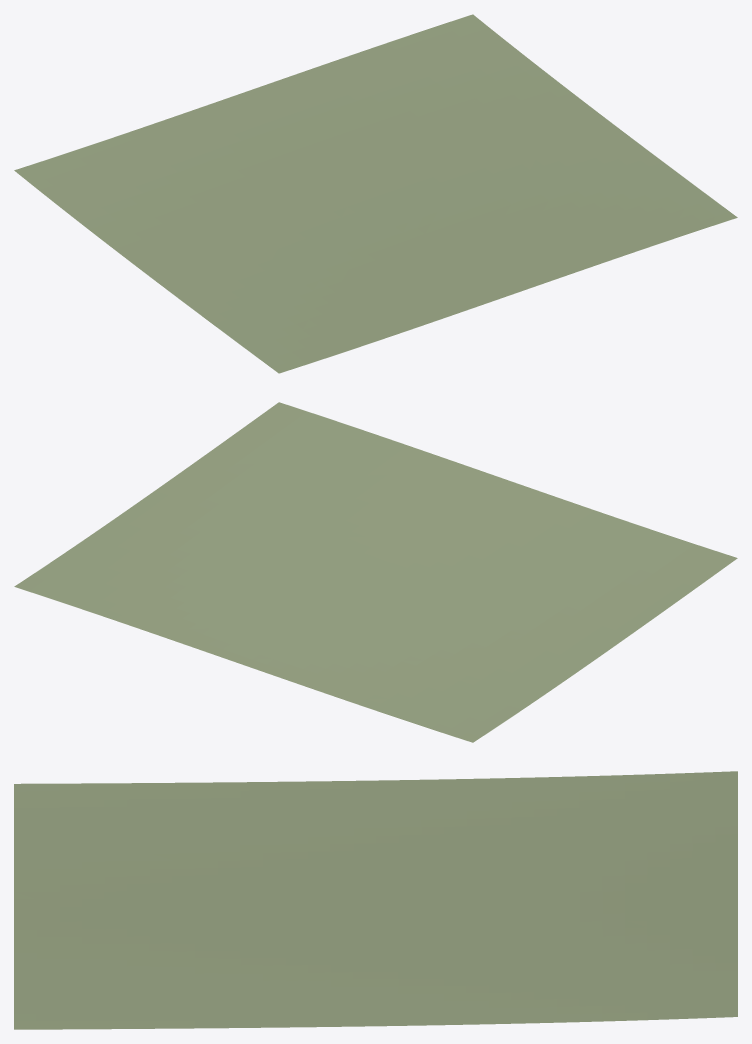
File: valley-5-4.glb
The picture shows the model from 3 angles, top to bottom: view 1: azimuth 30°, elevation 25°; view 2: azimuth 150°, elevation 25°; view 3: azimuth 270°, elevation 25°; orthographic projection. The views are drawn at different scales.
Visible parts, largest first — view 1: valley-5-4; view 2: valley-5-4; view 3: valley-5-4.
Part boxes in pixels (x1,y1,x2,y2): valley-5-4: (14, 14, 737, 373); valley-5-4: (14, 402, 737, 742); valley-5-4: (14, 771, 737, 1029).
Bounding box in the file's own units: 256 × 28.42 × 256.
